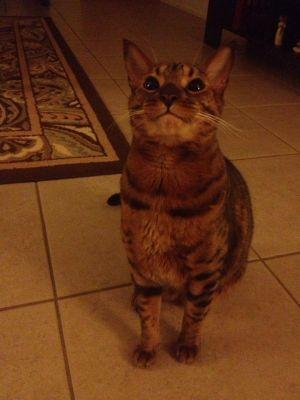bengal: (116, 32, 238, 155)
